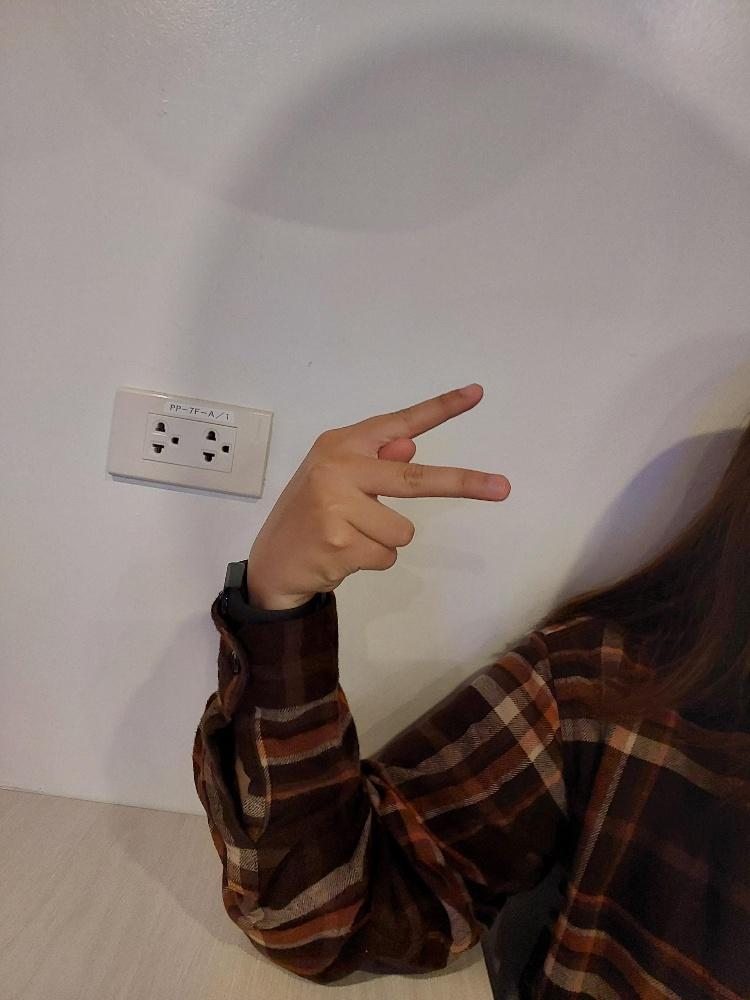k: (246, 378, 516, 603)
